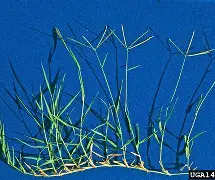weed: (0, 26, 214, 176)
